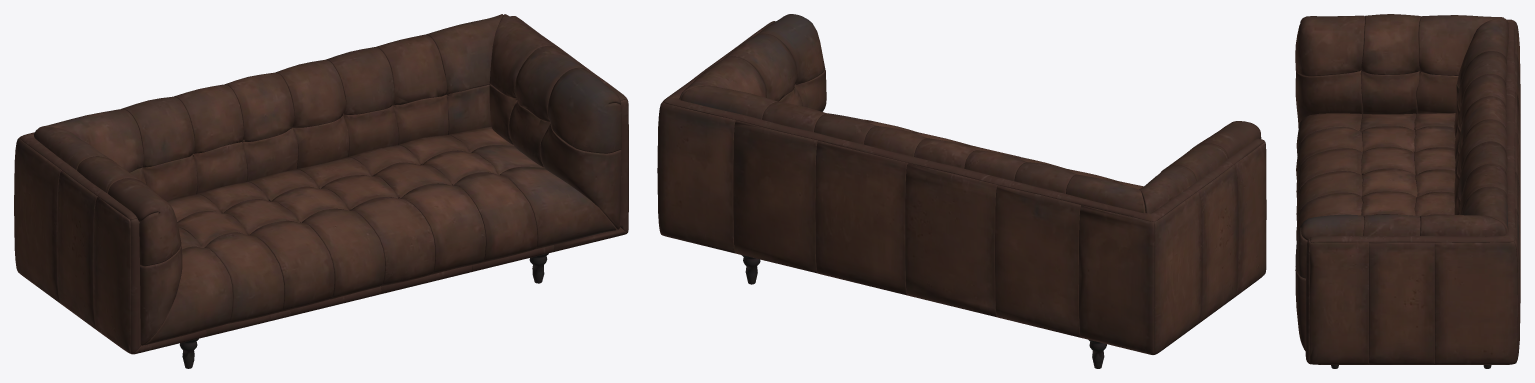
File: old_sofa_free.glb
The picture shows the model from 3 angles, left to right: view 1: azimuth 30°, elevation 25°; view 2: azimuth 150°, elevation 25°; view 3: azimuth 270°, elevation 25°; orthographic projection. The views are drawn at different scales.
Parts seen in each view (by area): view 1: Sofa; view 2: Sofa; view 3: Sofa.
Boxes of the visible parts, <box> form: Sofa: <box>14,14,628,368</box>; Sofa: <box>657,14,1266,368</box>; Sofa: <box>1295,14,1520,368</box>.
Size of the model in its own units: 219 by 78.73 by 92.27.
Materials: 2 (2 with a texture image).
